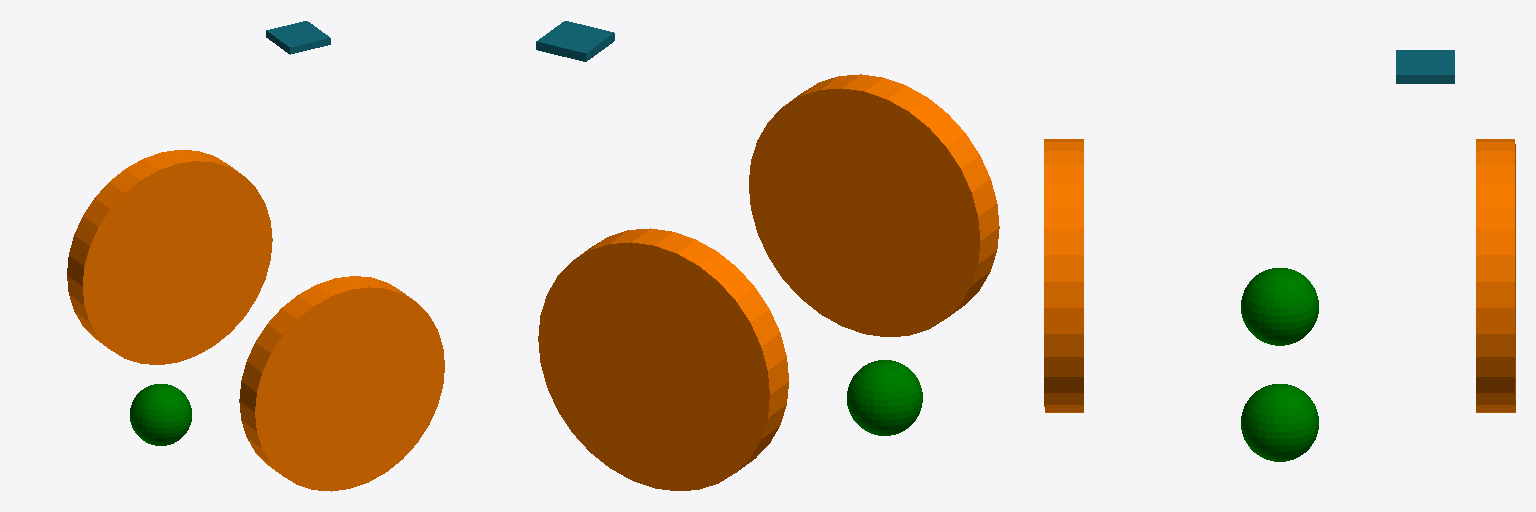
URDF robot description (box_bot):
<?xml version="1.0"?>
<robot name="box_bot">

    <material name="red"><color rgba="1.0 0.0 0.0 1"/></material>
    <material name="black"><color rgba="0.0 0.0 0.0 1"/></material>
    <material name="green_dark"><color rgba="0.0 0.5 0.0 1"/></material>
    <material name="orange"><color rgba="1.0 0.5 0.0 1.0"/></material>
    <material name="box_bot_blue"><color rgba="0.088656 0.428691 0.491021 1"/></material>

    <link name="base_footprint"/>

    <link name="base_link">
        <visual>
            <geometry>
                <mesh filename="package://my_box_bot_description/meshes/cute_cube.dae" scale="0.1 0.1 0.1"/>
            </geometry>
        </visual>
        <collision>
            <geometry>
                <box size="0.1 0.1 0.1"/>
            </geometry>
        </collision>
        <inertial>
            <mass value="0.8"/>
            <origin rpy="0 0 0" xyz="0 0 -0.02"/>
            <inertia ixx="0.001333" ixy="0" ixz="0" iyy="0.001333" iyz="0" izz="0.001333"/>
        </inertial>
    </link>

    <joint name="base_link_joint" type="fixed">
        <origin xyz="0 0 0.06" rpy="0 0 0"/>
        <parent link="base_footprint" />
        <child link="base_link" />
    </joint>

    <link name="left_wheel_link">
        <visual>
            <origin xyz="0 0.005 0" rpy="0 1.5707 1.5707"/>
            <geometry>
                <cylinder length="0.01" radius="0.035"/>
            </geometry>
            <material name="orange"/>
        </visual>
        <collision>
            <origin xyz="0 0.005 0" rpy="0 1.5707 1.5707"/>
            <geometry>
                <cylinder length="0.01" radius="0.035"/>
            </geometry>
        </collision>
        <inertial>
            <origin xyz="0 0.005 0" rpy="0 1.5707 1.5707"/>
            <mass value="0.05"/>
            <inertia ixx="1.5316e-05" ixy="0" ixz="0"
                    iyy="1.5316e-05" iyz="0"
                    izz="3.0625e-05"/>
        </inertial>
    </link>

    <joint name="left_wheel_joint" type="continuous">
        <origin xyz="0 0.05 -0.025" rpy="0 0 0" />
        <child link="left_wheel_link"/>
        <parent link="base_link"/>
        <axis xyz="0 1 0"/>
        <limit effort="10.0" velocity="10.0"/>
        <dynamics damping="0.1" friction="0.1"/>
    </joint>

    <gazebo reference="left_wheel_link">
        <kp>1000000.0</kp>
        <kd>10.0</kd>
        <mu1>10.0</mu1>
        <mu2>10.0</mu2>
        <fdir1>1 0 0</fdir1>
        <material>Gazebo/Green</material>
    </gazebo>

    <link name="right_wheel_link">
        <visual>
            <origin xyz="0 -0.005 0" rpy="0 1.5707 1.5707"/>
            <geometry>
                <cylinder length="0.01" radius="0.035"/>
            </geometry>
            <material name="orange"/>
        </visual>
        <collision>
            <origin xyz="0 -0.005 0" rpy="0 1.5707 1.5707"/>
            <geometry>
                <cylinder length="0.01" radius="0.035"/>
            </geometry>
        </collision>
        <inertial>
            <origin xyz="0 -0.005 0" rpy="0 1.5707 1.5707"/>
            <mass value="0.05"/>
            <inertia ixx="1.5316e-05" ixy="0" ixz="0"
                    iyy="1.5316e-05" iyz="0"
                    izz="3.0625e-05"/>
        </inertial>
    </link>

    <joint name="right_wheel_joint" type="continuous">
        <origin xyz="0 -0.05 -0.025" rpy="0 0 0" />
        <child link="right_wheel_link"/>
        <parent link="base_link"/>
        <axis xyz="0 1 0"/>
        <limit effort="10.0" velocity="10.0"/>
        <dynamics damping="0.1" friction="0.1"/>
    </joint>

    <gazebo reference="right_wheel_link">
        <kp>1000000.0</kp>
        <kd>10.0</kd>
        <mu1>10.0</mu1>
        <mu2>10.0</mu2>
        <fdir1>1 0 0</fdir1>
        <material>Gazebo/Orange</material>
    </gazebo>

    <link name="front_caster_link">
        <visual>
            <geometry><sphere radius="0.01"/></geometry>
            <material name="green_dark"/>
        </visual>
        <collision>
            <geometry><sphere radius="0.01"/></geometry>
        </collision>
        <inertial>
            <mass value="0.01"/>
            <inertia ixx="4e-07" ixy="0" ixz="0" iyy="4e-07" iyz="0" izz="4e-07"/>
        </inertial>
    </link>
    <joint name="front_caster_joint" type="fixed">
        <parent link="base_link"/>
        <child link="front_caster_link"/>
        <origin xyz="0.035 0 -0.05" rpy="0 0 0"/>
    </joint>

    <gazebo reference="front_caster_link">
        <mu1>0.01</mu1>
        <mu2>0.01</mu2>
        <material>Gazebo/Purple</material>
    </gazebo>

    <link name="back_caster_link">
        <visual>
            <geometry><sphere radius="0.01"/></geometry>
            <material name="green_dark"/>
        </visual>
        <collision>
            <geometry><sphere radius="0.01"/></geometry>
        </collision>
        <inertial>
            <mass value="0.01"/>
            <inertia ixx="4e-07" ixy="0" ixz="0"
                    iyy="4e-07" iyz="0"
                    izz="4e-07"/>
        </inertial>
    </link>

    <joint name="back_caster_joint" type="fixed">
        <origin xyz="-0.035 0 -0.05" rpy="0 0 0"/>
        <parent link="base_link"/>
        <child link="back_caster_link"/>
    </joint>
    <gazebo reference="back_caster_link">
        <mu1>0.01</mu1>
        <mu2>0.01</mu2>
        <material>Gazebo/Purple</material>
    </gazebo>

    <!-- Camear Control -->
    <link name="camera_link">
        <visual>
            <origin xyz="0 0 0" rpy="0 0 0" />
            <geometry>
                <mesh filename="package://my_box_bot_description/meshes/sensors/realsense.dae" scale="1.0 1.0 1.0"/>
            </geometry>
        </visual>
        <collision>
            <origin xyz="-0.02 0 -0.015" rpy="0 0 0"/>
            <geometry>
                <box size="0.04 0.17 0.03"/>
            </geometry>
        </collision>
        <inertial>
    <mass value="0.1"/>
    <origin xyz="0 0 0" rpy="0 0 0"/>
    <inertia ixx="0.00024833" ixy="0" ixz="0"
            iyy="0.00002083" iyz="0"
            izz="0.00025417"/>
</inertial>
    </link>

    <joint name="camera_link_joint" type="fixed">
        <origin xyz="0.08 0 0.06" rpy="0 -0.2 0"/>
        <parent link="base_link"/>
        <child link="camera_link"/>
    </joint>


    <!-- Laser Position Control -->
    <link name="laser_scan_link">
        <visual>
            <origin xyz="0 0 0" rpy="0 0 0" />
            <geometry>
                <mesh filename="package://my_box_bot_description/meshes/sensors/rplidar.dae" scale="1.0 1.0 1.0"/>
            </geometry>
        </visual>
        <collision>
            <origin xyz="0 0 0.0204" rpy="0 0 0"/>
            <geometry>
                <cylinder length="0.0408" radius="0.037493"/>
            </geometry>
        </collision>
        <inertial>
            <mass value="0.01"/>
            <origin xyz="0 0 0.0204" rpy="0 0 0"/>
            <inertia ixx="6.066578520833334e-06" ixy="0" ixz="0" iyy="6.072950163333333e-06" iyz="0" izz="9.365128684166666e-06"/>
        </inertial>
    </link>
    <joint name="laser_scan_link_joint" type="continuous">
        <origin rpy="0 0 0" xyz="0 0 0.05"/>
        <parent link="base_link"/>
        <child link="laser_scan_link"/>
        <axis xyz="0 0 1"/>
        <limit effort="10.0" velocity="100.0"/>
        <dynamics damping="0.01" friction="0.01"/>
    </joint>

    <!-- IMU -->
    <link name="imu_link">
        <visual>
            <origin xyz="0 0 0" rpy="0 0 0"/>
            <geometry>
                <box size="0.015 0.015 0.0025"/>
            </geometry>
            <material name="box_bot_blue"/>
        </visual>
    </link>

    <joint name="imu_joint" type="fixed">
        <origin xyz="0.037 0.037 0.051" rpy="0 0 0"/>
        <parent link="base_link"/>
        <child link="imu_link"/>
    </joint>

    <gazebo>
        <plugin name="joint_state_publisher" filename="libgazebo_ros_joint_state_publisher.so">
            <ros><remapping>~/out:=joint_states</remapping></ros>
            <update_rate>30</update_rate>
            <joint_name>left_wheel_joint</joint_name>
            <joint_name>right_wheel_joint</joint_name>
            <joint_name>laser_scan_link_joint</joint_name>
        </plugin>
    </gazebo>

    <gazebo>
        <plugin name="differential_drive_controller" filename="libgazebo_ros_diff_drive.so" >
            <left_joint>left_wheel_joint</left_joint>
            <right_joint>right_wheel_joint</right_joint>
            <wheel_separation>0.11</wheel_separation>
            <wheel_diameter>0.07</wheel_diameter>
            <max_wheel_torque>1.0</max_wheel_torque>
            <max_wheel_acceleration>2.0</max_wheel_acceleration>
            <publish_odom>true</publish_odom>
            <publish_odom_tf>true</publish_odom_tf>
            <odometry_frame>odom</odometry_frame>
            <robot_base_frame>base_footprint</robot_base_frame>
        </plugin>
    </gazebo>

    <gazebo reference="camera_link">
        <sensor name="camera" type="depth">
            <visualize>true</visualize>
            <update_rate>30.0</update_rate>
            <camera name="camera">
                <horizontal_fov>1.5184</horizontal_fov>
                <image>
                    <width>640</width>
                    <height>480</height>
                    <format>R8G8B8</format>
                </image>
                <clip>
                    <near>0.1</near>
                    <far>10.0</far>
                </clip>
            </camera>
            <plugin name="camera_controller" filename="libgazebo_ros_camera.so">
                <ros>
                    <!-- <namespace>camera</namespace> -->
                    <remapping>camera/image_raw:=color/image_raw</remapping>
                    <remapping>camera/depth/image_raw:=depth/image_rect_raw</remapping>
                    <remapping>camera/camera_info:=color/camera_info</remapping>
                    <remapping>camera/depth/camera_info:=depth/camera_info</remapping>
                    <remapping>camera/points:=depth/color/points</remapping>
                </ros>
                <camera_name>d435i</camera_name>
                <frame_name>camera_depth_optical_frame</frame_name> <hack_baseline>0.07</hack_baseline>
                <min_depth>0.1</min_depth>
                <max_depth>5.0</max_depth>
            </plugin>
        </sensor>
    </gazebo>

    <gazebo reference="laser_scan_link">
        <sensor name="lidar" type="ray">
            <always_on>true</always_on>
            <visualize>true</visualize>
            <update_rate>10</update_rate>
            <ray>
                <scan>
                    <horizontal>
                        <samples>360</samples>
                        <resolution>1.0</resolution>
                        <min_angle>0.00</min_angle>
                        <max_angle>6.28</max_angle>
                    </horizontal>
                </scan>
                <range>
                    <min>0.12</min>
                    <max>12.0</max>
                    <resolution>0.015</resolution>
                </range>
            </ray>
            <plugin name="scan_controller" filename="libgazebo_ros_ray_sensor.so">
                <ros>
                    <remapping>~/out:=scan</remapping>
                </ros>
                <output_type>sensor_msgs/LaserScan</output_type>
                <frame_name>laser_scan_link</frame_name>
            </plugin>
        </sensor>
    </gazebo>

    <gazebo reference="imu_link">
        <sensor name="br_imu" type="imu">
            <always_on>true</always_on>
            <update_rate>100</update_rate>
            <imu>
                <angular_velocity>
                    <x>
                        <noise type="gaussian">
                        <mean>0.0</mean>
                        <stddev>2e-4</stddev>
                        </noise>
                    </x>
                    <y>
                        <noise type="gaussian">
                        <mean>0.0</mean>
                        <stddev>2e-4</stddev>
                        </noise>
                    </y>
                    <z>
                        <noise type="gaussian">
                        <mean>0.0</mean>
                        <stddev>2e-4</stddev>
                        </noise>
                    </z>
                </angular_velocity>
                <linear_acceleration>
                    <x>
                        <noise type="gaussian">
                        <mean>0.0</mean>
                        <stddev>1.7e-2</stddev>
                        </noise>
                    </x>
                    <y>
                        <noise type="gaussian">
                        <mean>0.0</mean>
                        <stddev>1.7e-2</stddev>
                        </noise>
                    </y>
                    <z>
                        <noise type="gaussian">
                        <mean>0.0</mean>
                        <stddev>1.7e-2</stddev>
                        </noise>
                    </z>
                </linear_acceleration>
            </imu>
            <plugin name="bytes_imu" filename="libgazebo_ros_imu_sensor.so">
                <ros>
                    <namespace>imu</namespace>
                    <remapping>~/out:=data</remapping>
                </ros>
                <initial_orientation_as_reference>false</initial_orientation_as_reference>
            </plugin>
        </sensor>
    </gazebo>
</robot>

--- What the picture shows (computed from the rendered views, not written in the file) ---
The picture shows the robot from 3 angles, left to right: view 1: azimuth 30°, elevation 25°; view 2: azimuth 150°, elevation 25°; view 3: azimuth 270°, elevation 25°; orthographic projection.
Model box_bot with 9 links and 8 joints (3 continuous, 5 fixed), rooted at base_footprint, posed every joint at zero.
Visible links, largest first — view 1: left_wheel_link, right_wheel_link, back_caster_link, imu_link; view 2: left_wheel_link, right_wheel_link, back_caster_link, imu_link; view 3: left_wheel_link, right_wheel_link, front_caster_link, back_caster_link, imu_link.
Boxes of the visible links, x1,y1,x2,y2 form: left_wheel_link: (67,150,272,364); right_wheel_link: (239,276,444,491); back_caster_link: (130,384,191,445); imu_link: (266,21,330,54); left_wheel_link: (538,228,788,490); right_wheel_link: (749,74,999,336); back_caster_link: (847,360,922,435); imu_link: (536,21,614,61); left_wheel_link: (1476,139,1515,412); right_wheel_link: (1044,139,1083,412); front_caster_link: (1241,384,1318,461); back_caster_link: (1241,268,1318,345); imu_link: (1396,50,1454,83).
Size in the robot's own frame: 0.09 by 0.12 by 0.1123 metres.
Meshes: 3 distinct files referenced, 0 mesh visuals loaded (none loaded); not drawn: 3 (file found but could not be loaded).
